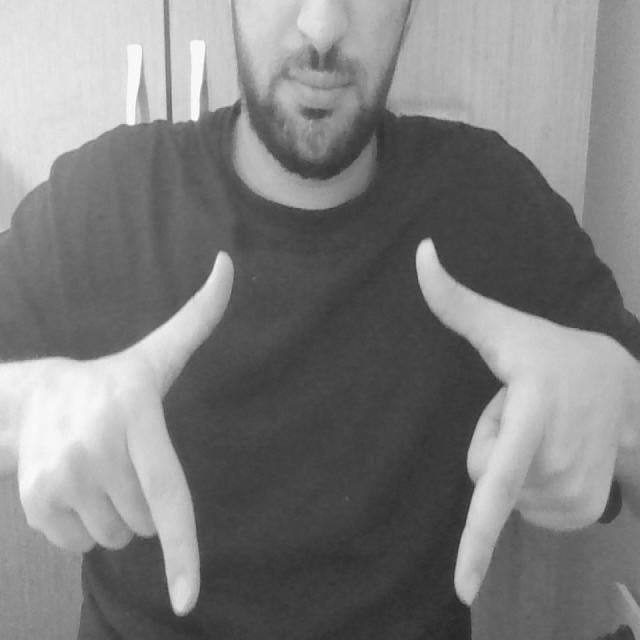Nerede: (119, 240, 552, 620)
